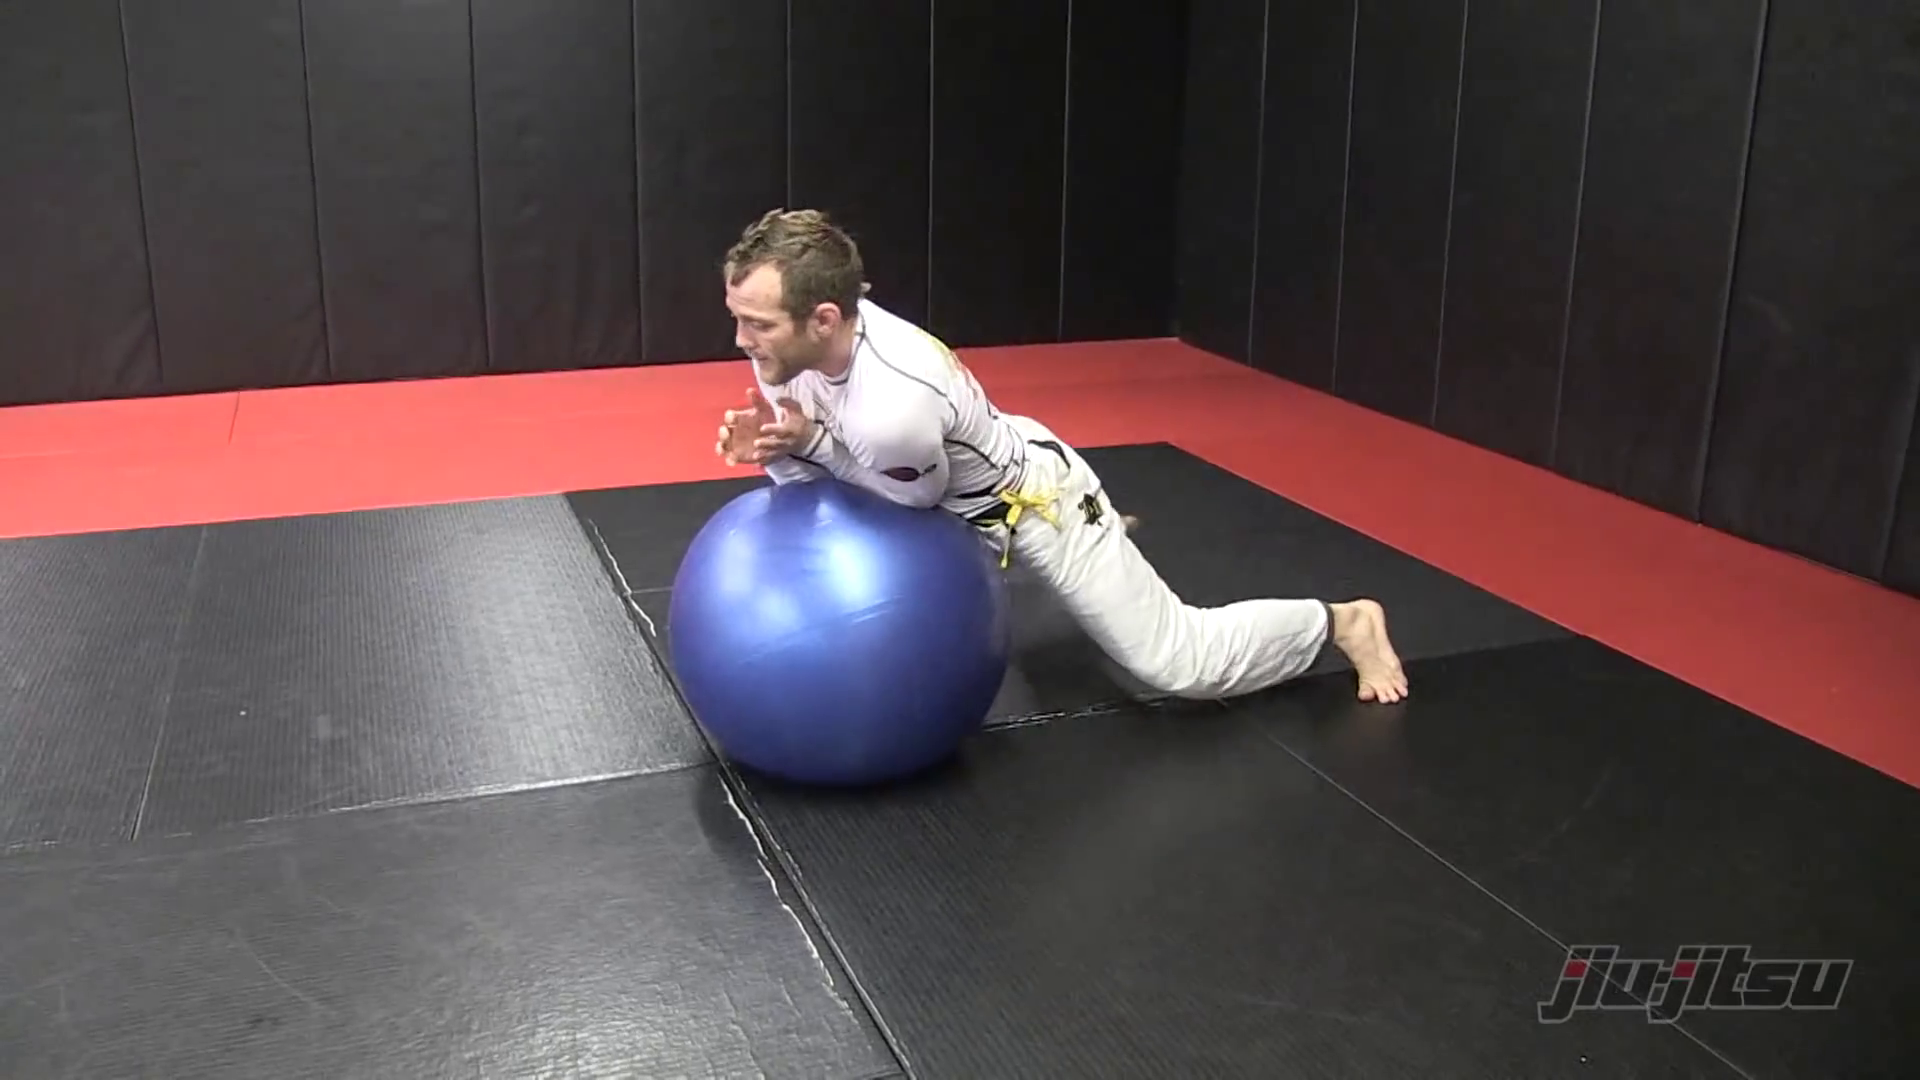yogaball: (649, 484, 1030, 800)
